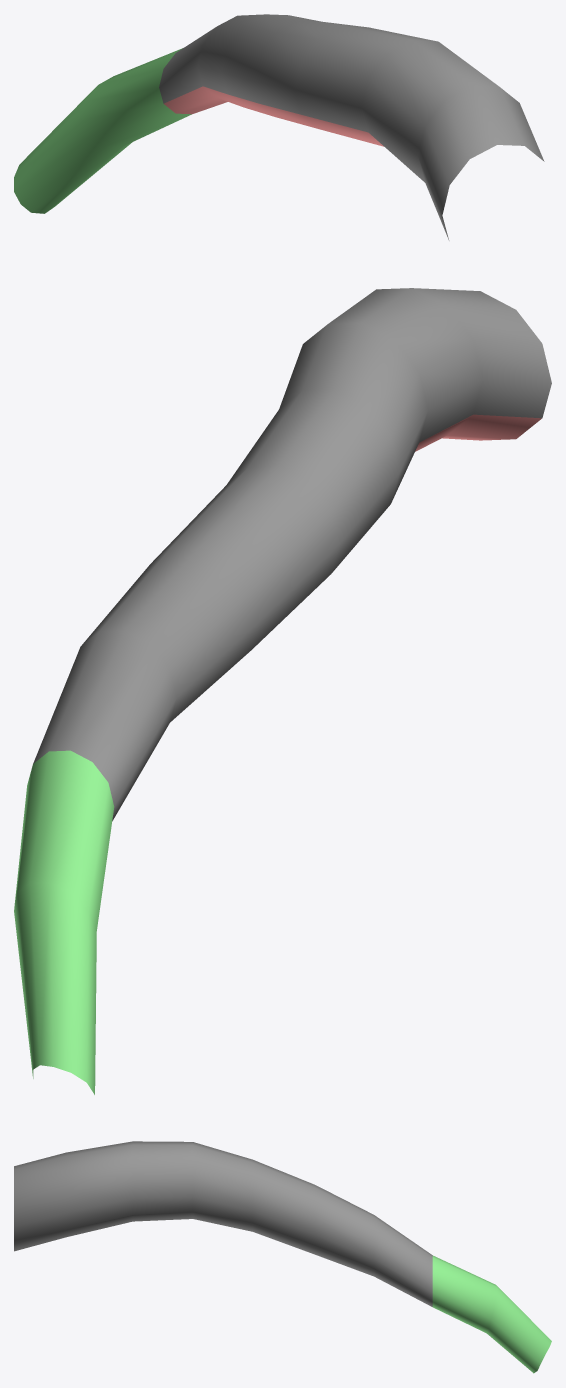
3 renders of one model, top to bottom at view 1: azimuth 30°, elevation 25°; view 2: azimuth 150°, elevation 25°; view 3: azimuth 270°, elevation 25°, orthographic. The views are drawn at different scales.
Visible parts, largest first — view 1: root_09; view 2: root_09; view 3: root_09.
Part boxes in pixels (x1,y1,x2,y2): root_09: (14, 14, 544, 240); root_09: (14, 288, 551, 1094); root_09: (14, 1141, 551, 1373).
Bounding box in the file's own units: 7.54 × 16.48 × 32.04.
